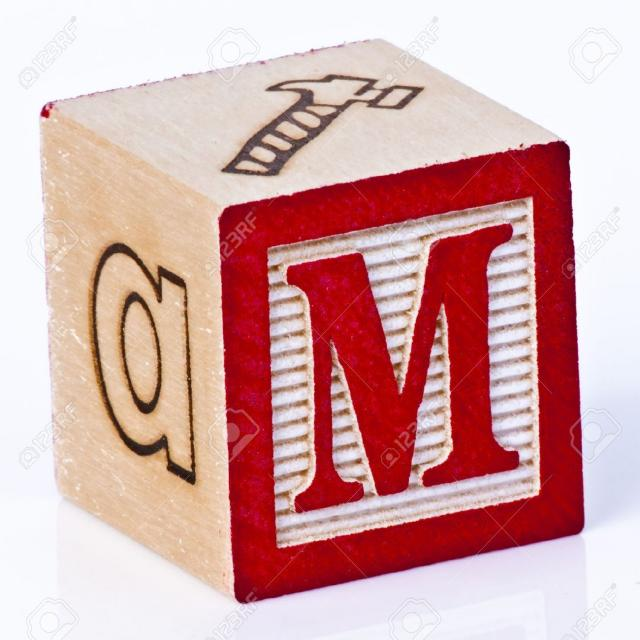M: (279, 211, 521, 526)
